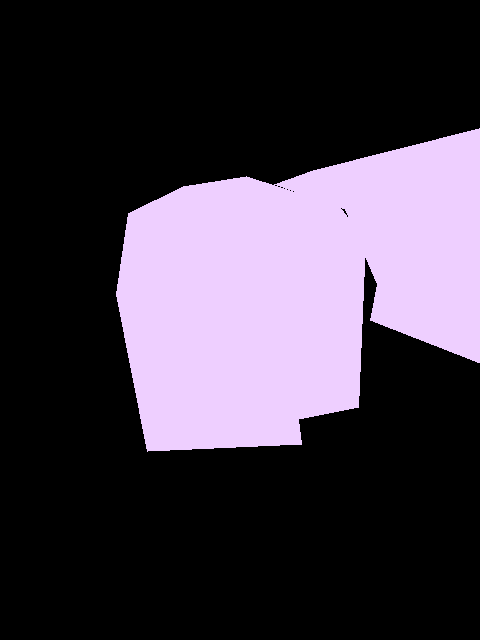Train: (116, 176, 365, 451), (274, 128, 480, 363)
